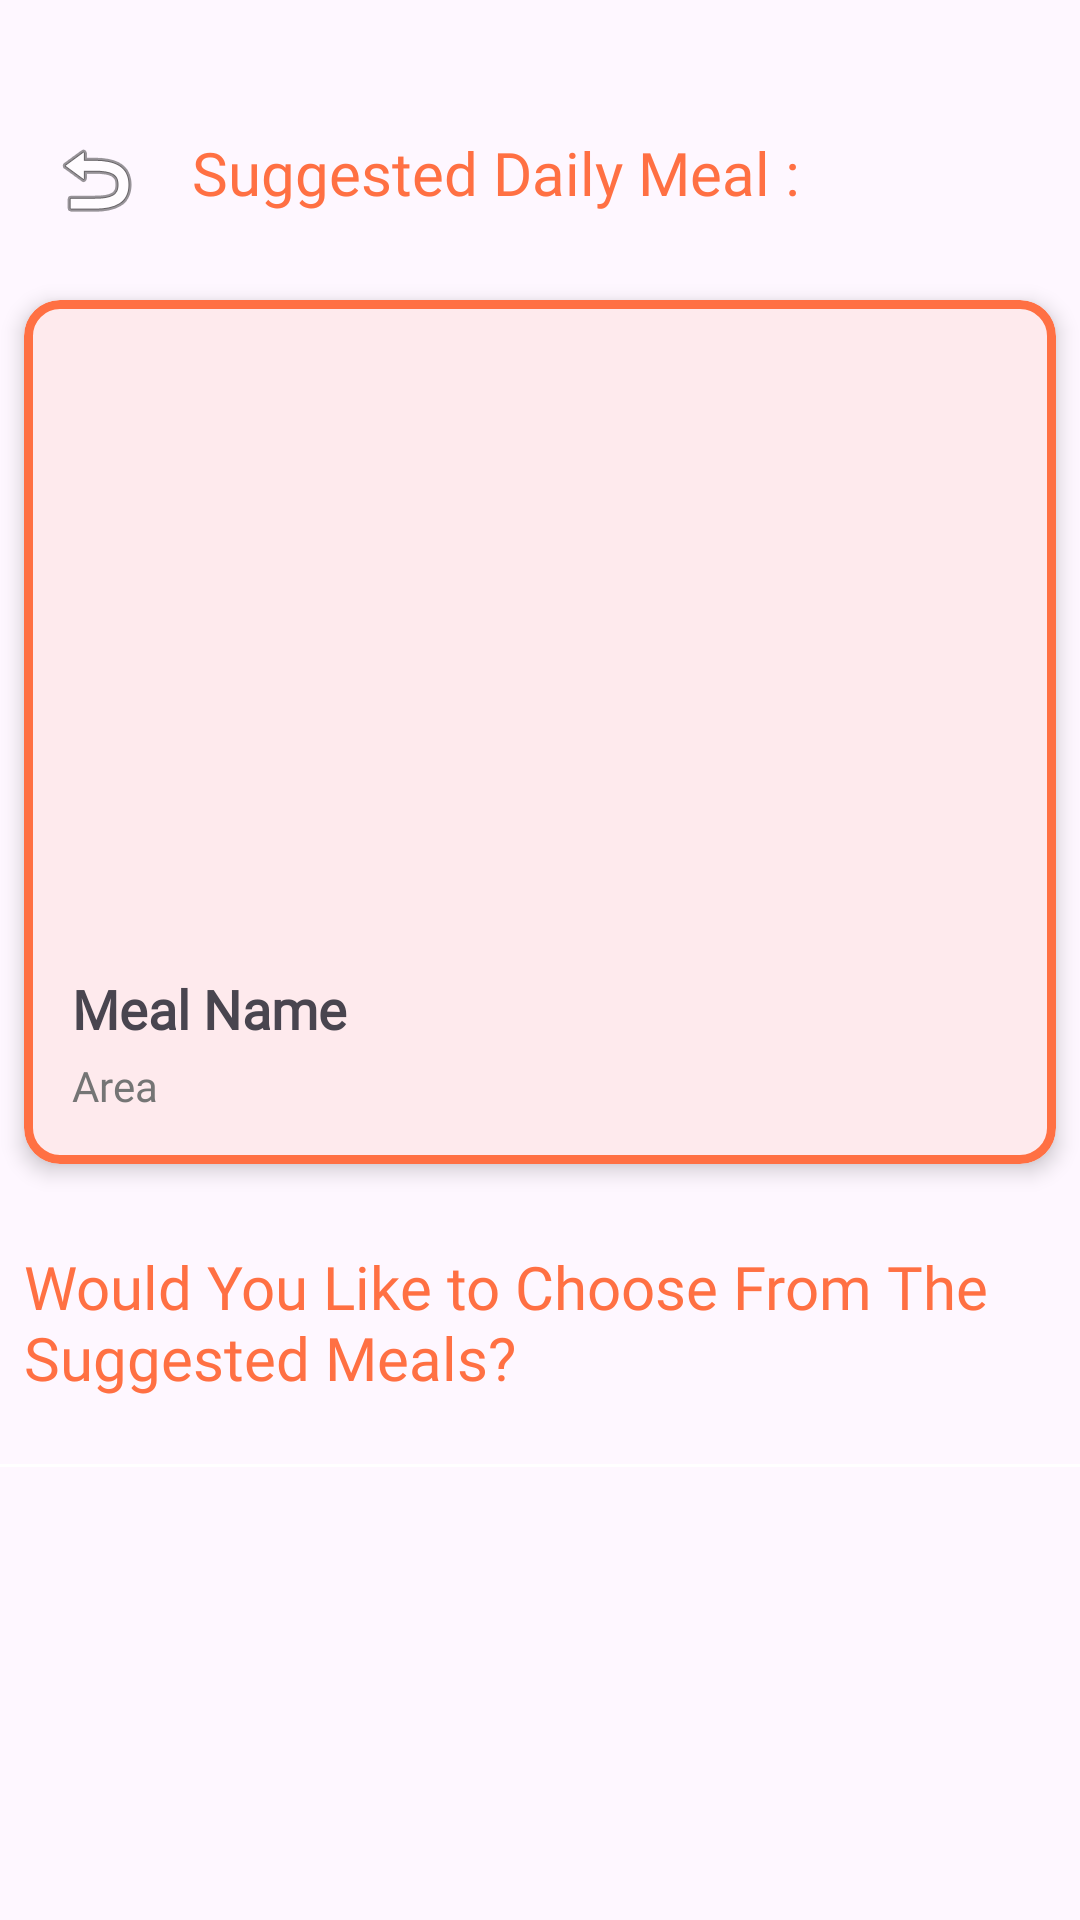

Icon bounding boxes for this 1080 × 1920 phone screenshot, format region(x1, y1, x2, y2):
revert: region(63, 149, 132, 212)
